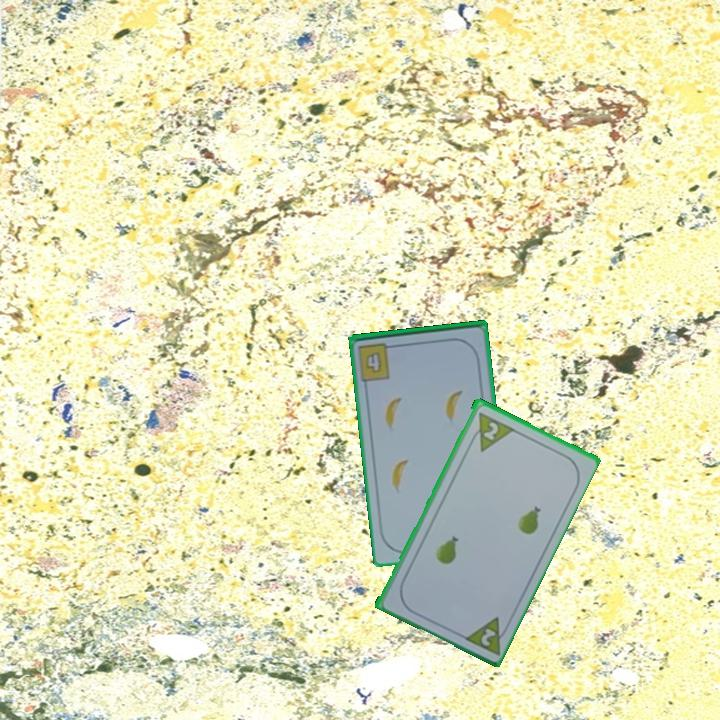2p: (479, 418, 501, 443), (477, 624, 498, 649)
4b: (355, 339, 399, 383)
